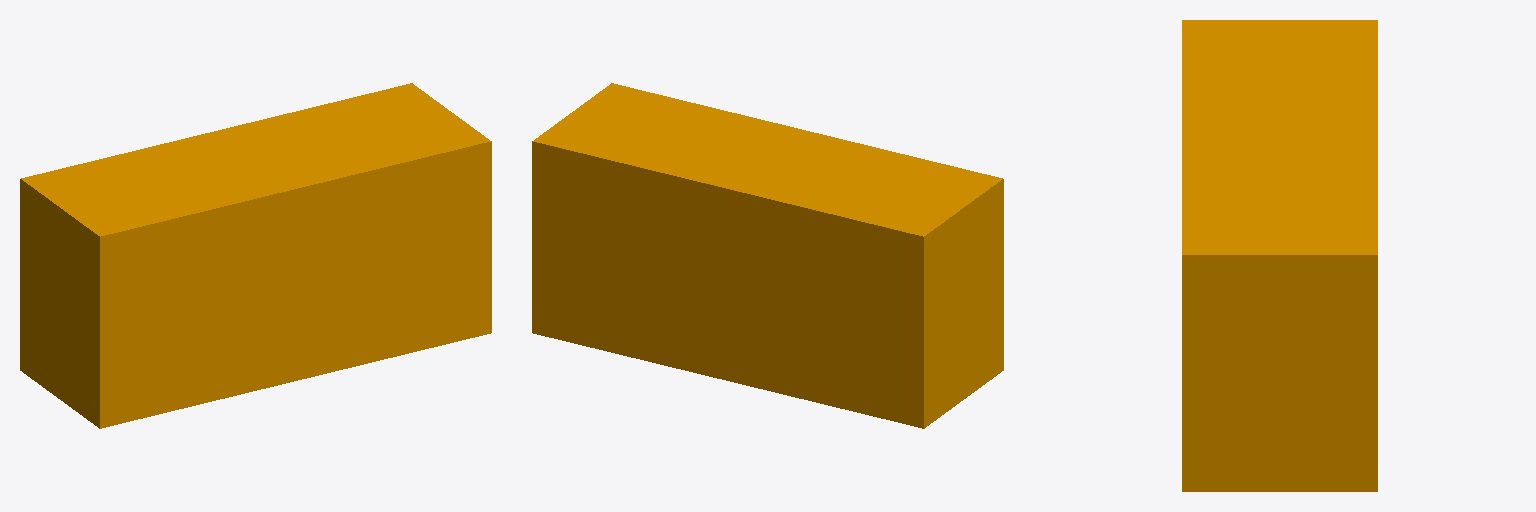
The robot description file, URDF, robot "pnp_block":
<robot name="pnp_block">
  <link name="pnp_block">
    <inertial>
      <origin xyz="0.064 0.0225 0.03" />
      <mass value="0.7" />
      <!-- (1/12)*mass*(h^2 + d^2)  (1/12)*mass*(w^2 + d^2) (1/12)*mass*(w^2 + h^2) -->
      <!-- (1/12)*0.5*(0.045^2 + 0.045^2)  (1/12)*0.5*(0.045^2 + 0.045^2) (1/12)*0.5*(0.045^2 + 0.045^2) -->
      <!--inertia  ixx="0.00016874999" ixy="0.0"  ixz="0.0"  iyy="0.00016874999"  iyz="0.0"  izz="0.00016874999" /-->
      <inertia  ixx="0.001" ixy="0.0"  ixz="0.0"  iyy="0.001"  iyz="0.0"  izz="0.001" />

    </inertial>
    <visual>
      <origin xyz="0.064 0.0225 0.03"/>
      <geometry>
        <box size="0.128 0.045 0.06" />
      </geometry>
    </visual>
    <collision>
      <origin xyz="0.064 0.0225 0.03"/>
      <geometry>
        <box size="0.128 0.045 0.06" />
      </geometry>
    </collision>
  </link>
  <gazebo reference="pnp_block">
    <material>Gazebo/Yellow</material>
     <mu1>1000000000</mu1>
     <mu2>1000000000</mu2>
  </gazebo>
</robot>

--- Facts derived from the render (not from the file) ---
Views: 3 orthographic renders of the robot side by side, from view 1: azimuth 30°, elevation 25°; view 2: azimuth 150°, elevation 25°; view 3: azimuth 270°, elevation 25°.
Model pnp_block with 1 links and 0 joints (none), rooted at pnp_block, posed all joints at 0.
Visible links, largest first — view 1: pnp_block; view 2: pnp_block; view 3: pnp_block.
Boxes of the visible links, box(x1,y1,x2,y2) form: pnp_block: box(20, 83, 491, 428); pnp_block: box(532, 83, 1003, 428); pnp_block: box(1182, 20, 1377, 491).
Size in the robot's own frame: 0.128 by 0.045 by 0.06 metres.
Geometry: primitives only (box / cylinder / sphere), no mesh files.